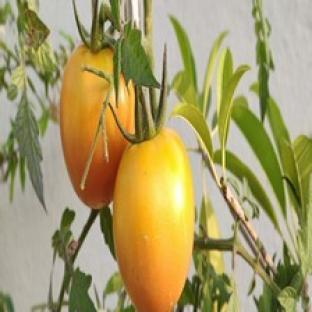Tomato: (113, 129, 194, 311), (60, 45, 128, 208)
